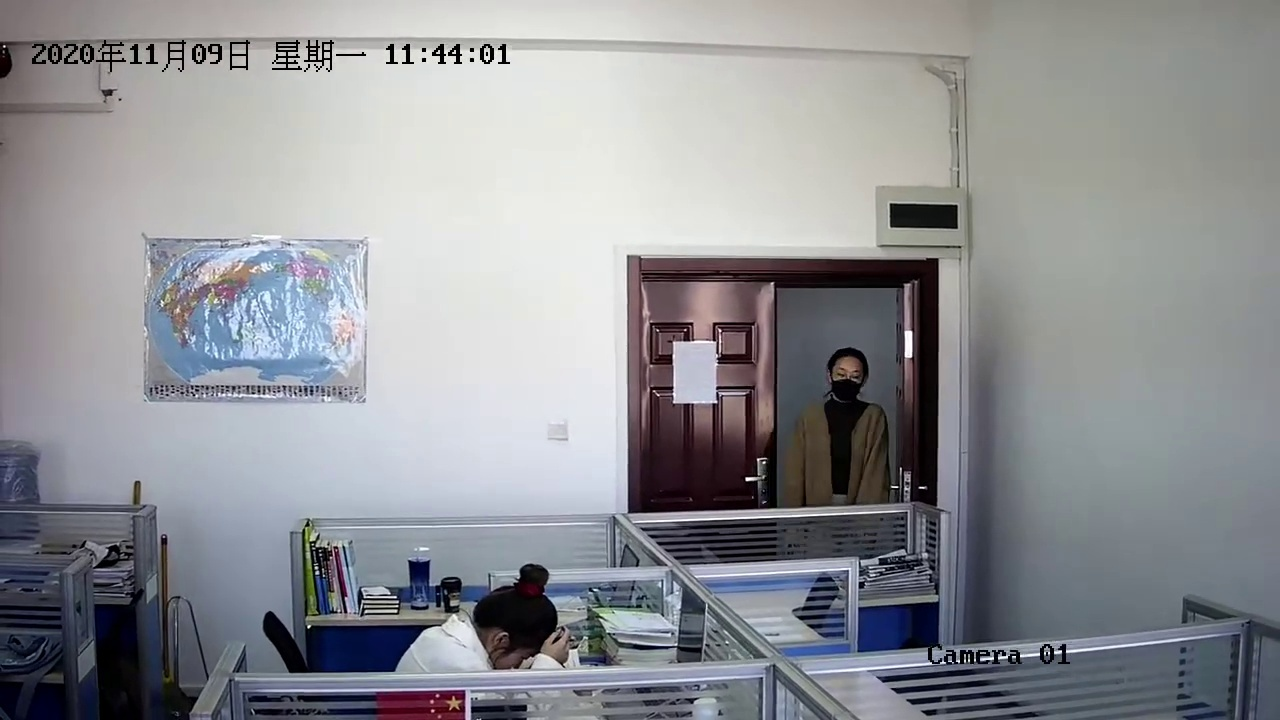mask: (825, 343, 869, 408)
